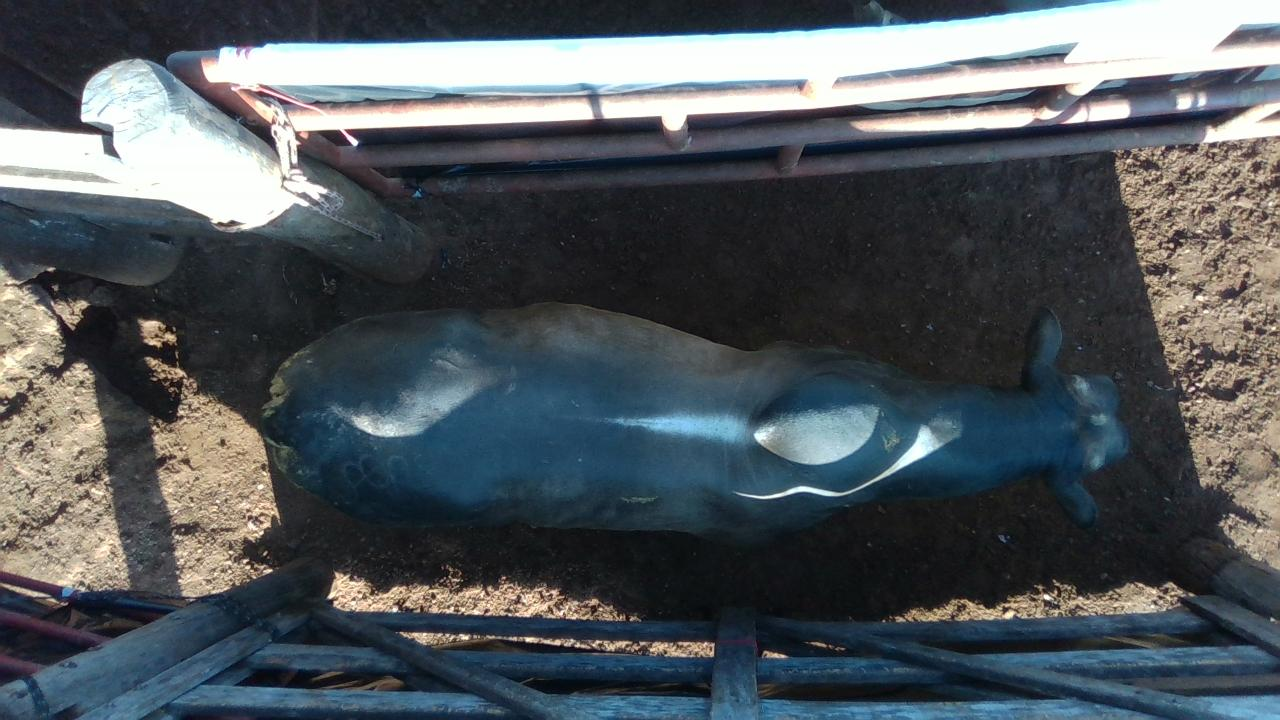cattle: (259, 299, 1131, 546)
